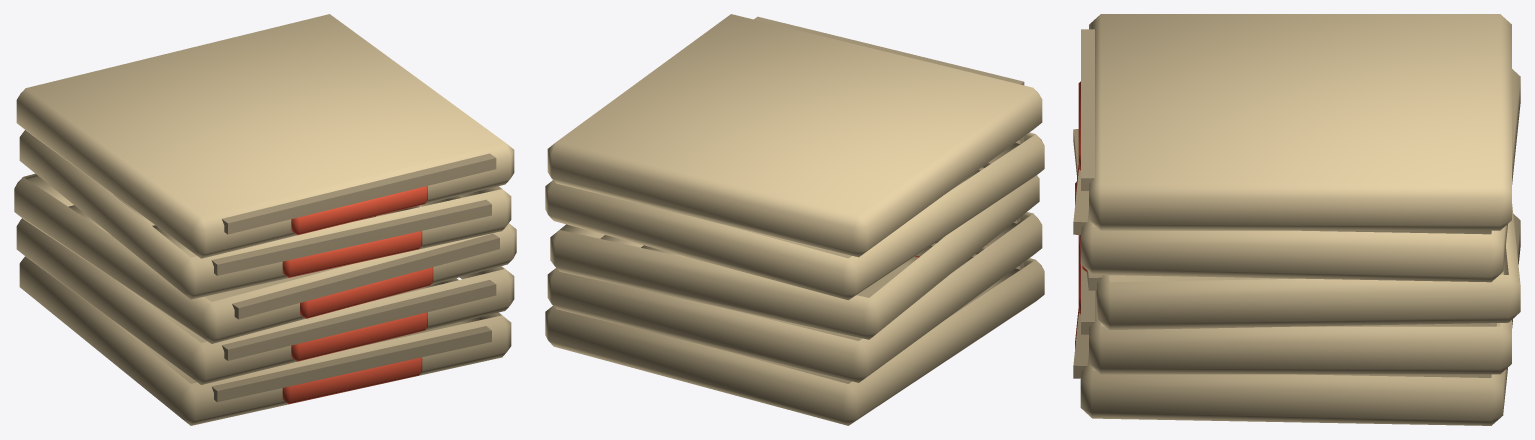
The model's file is SM_Pizza_Box_Stack_01.glb.
3 renders of one model, left to right at view 1: azimuth 30°, elevation 25°; view 2: azimuth 150°, elevation 25°; view 3: azimuth 270°, elevation 25°, orthographic. The views are drawn at different scales.
Parts seen in each view (by area): view 1: SM_Pizza_Box_Stack_01; view 2: SM_Pizza_Box_Stack_01; view 3: SM_Pizza_Box_Stack_01.
Part boxes in pixels (x1=…): SM_Pizza_Box_Stack_01: x1=14, y1=14, x2=516, y2=425; SM_Pizza_Box_Stack_01: x1=545, y1=14, x2=1044, y2=425; SM_Pizza_Box_Stack_01: x1=1073, y1=14, x2=1520, y2=425.
Bounding box in the file's own units: 0.3745 × 0.225 × 0.3806.
1 material, 1 textured.
